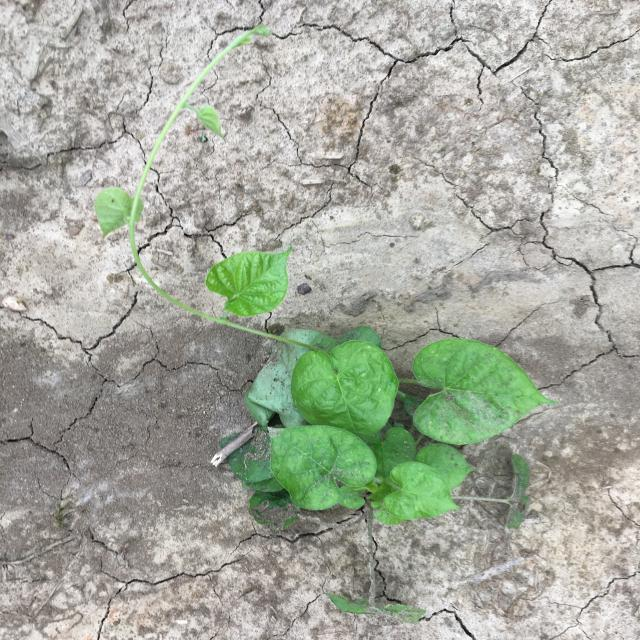MorningGlory: (93, 23, 561, 623)
